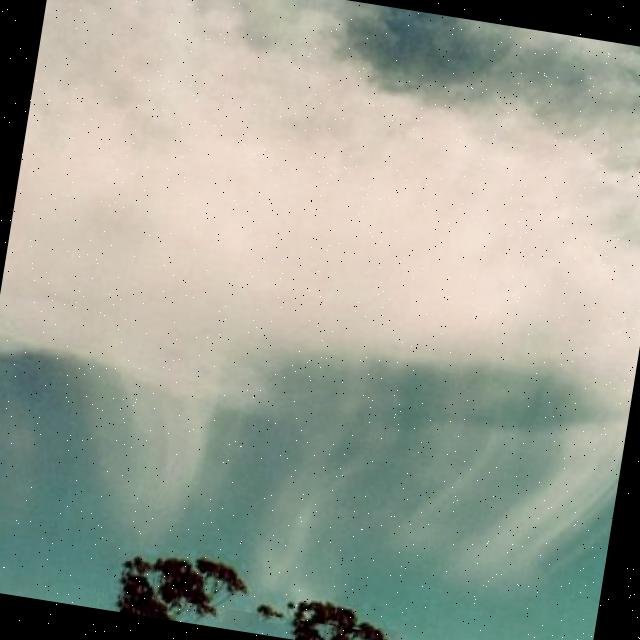Ci: (1, 13, 640, 581)
